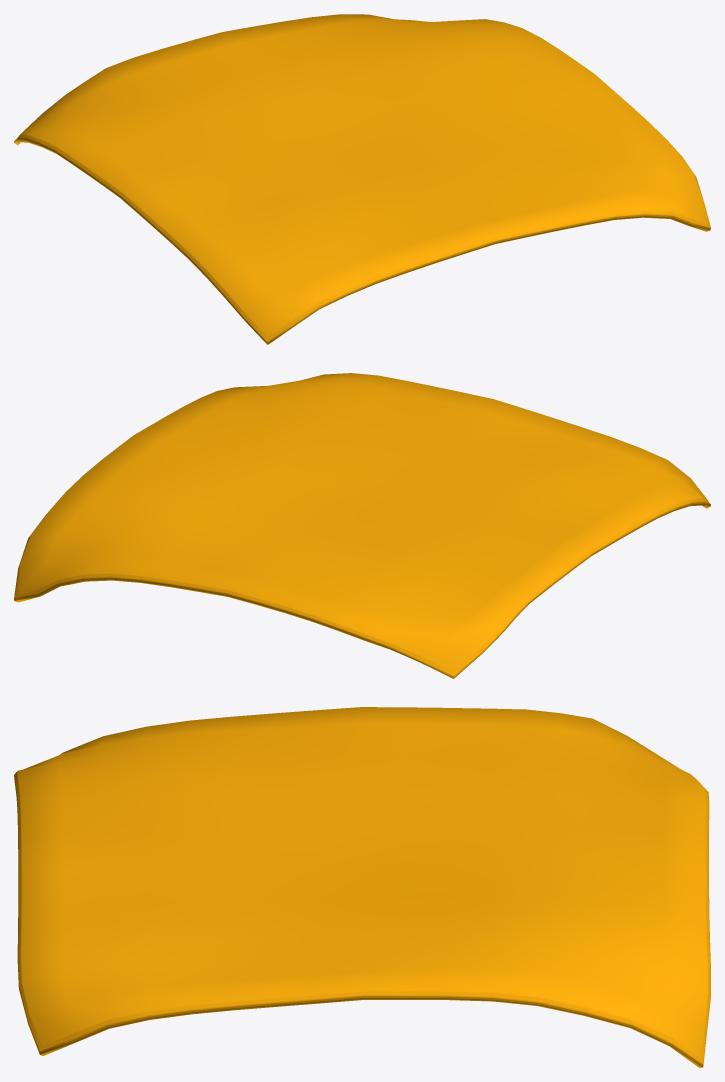
The model's file is itemNormal01.fbx.
3 renders of one model, top to bottom at view 1: azimuth 30°, elevation 25°; view 2: azimuth 150°, elevation 25°; view 3: azimuth 270°, elevation 25°, orthographic. The views are drawn at different scales.
Parts seen in each view (by area): view 1: Cheddar; view 2: Cheddar; view 3: Cheddar.
Part boxes in pixels (<box>): Cheddar: <box>14,14,710,344</box>; Cheddar: <box>14,373,710,678</box>; Cheddar: <box>14,707,710,1067</box>.
Size of the model in its own units: 163 by 24.78 by 164.
